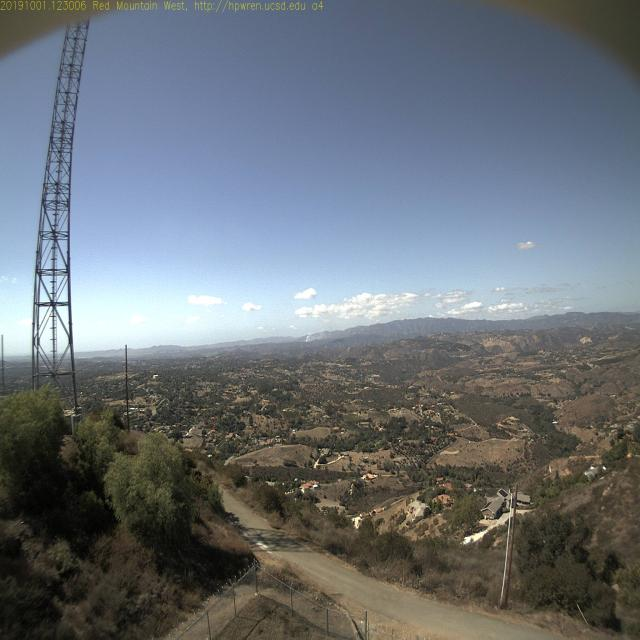smoke: (297, 324, 330, 344)
